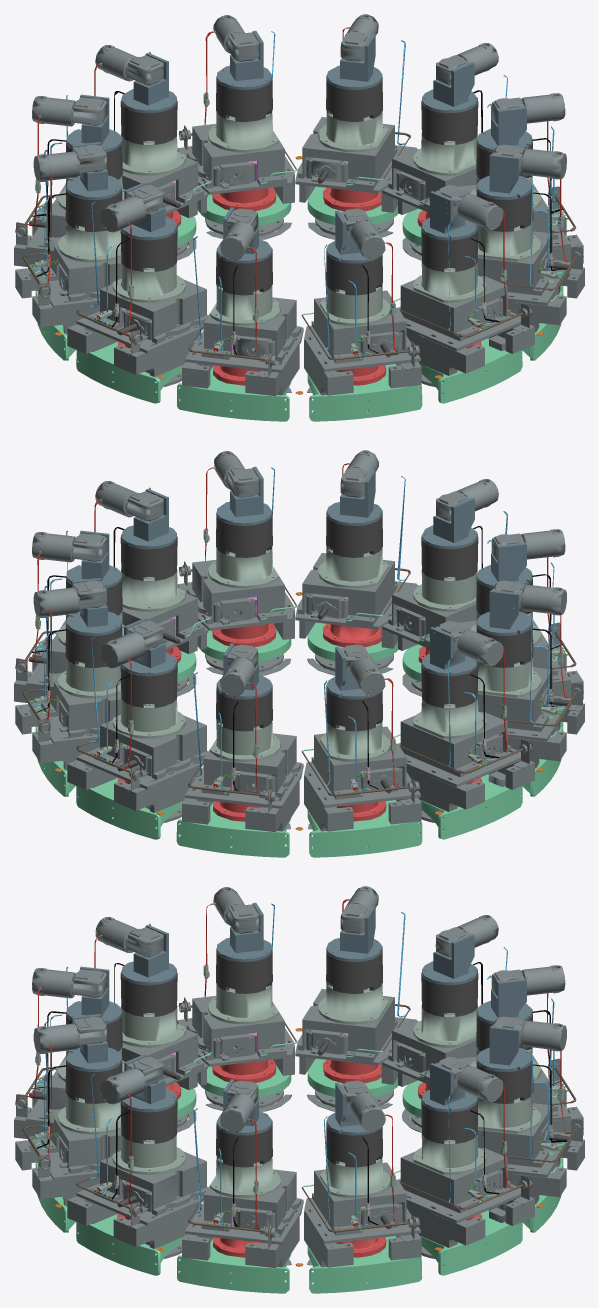
The model's file is f2_drives.glb.
The picture shows the model from 3 angles, top to bottom: view 1: azimuth 30°, elevation 25°; view 2: azimuth 150°, elevation 25°; view 3: azimuth 270°, elevation 25°; orthographic projection.
Visible parts, largest first — view 1: f2_drives; view 2: f2_drives; view 3: f2_drives.
Boxes of the visible parts, box(x1,y1,x2,y2) form: f2_drives: box(14, 14, 584, 421); f2_drives: box(14, 450, 584, 857); f2_drives: box(14, 886, 584, 1293).
Size of the model in its own units: 2.34 by 0.8342 by 2.34.
